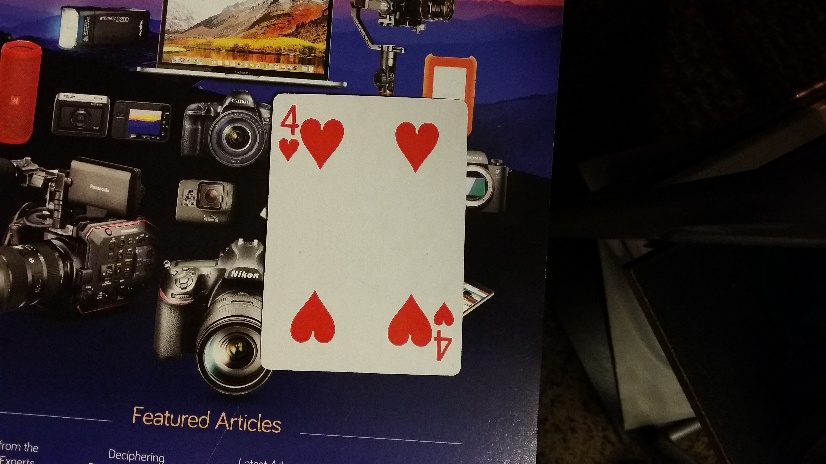H4: (430, 298, 456, 362), (279, 99, 301, 163)
